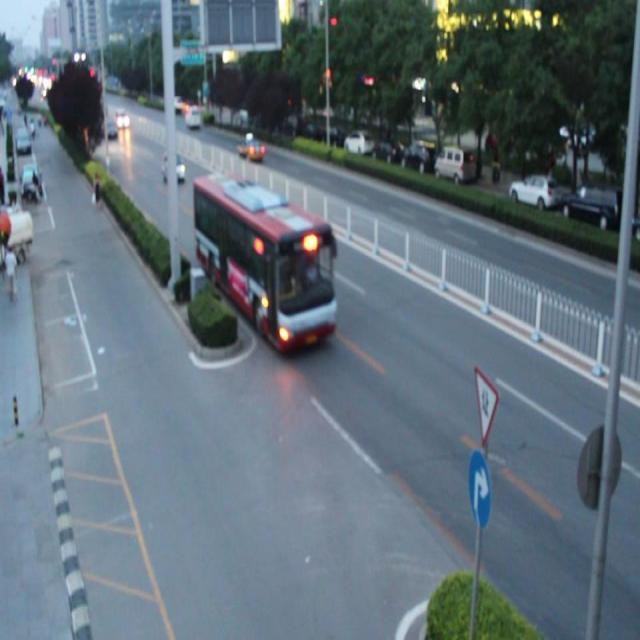car: (161, 150, 185, 182), (238, 134, 263, 160)
van: (193, 168, 334, 354)
